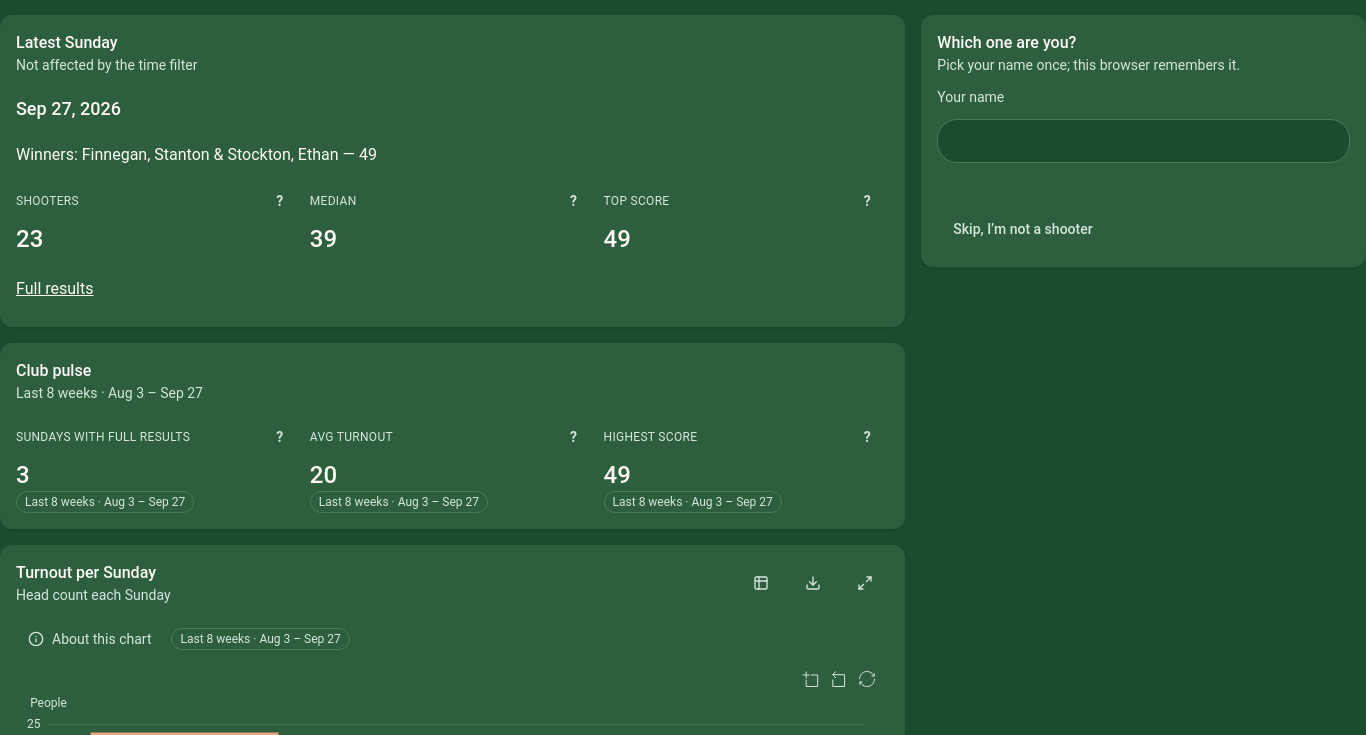
Test: HomePage › a pick fills the panel, passes the id on and moves focus to the panel
The image size is (1366, 735).
Type "Hadley" into the search field labelled "Your name".
click(1144, 141); type("Hadley")  # box x1=937 y1=119 x2=1350 y2=163
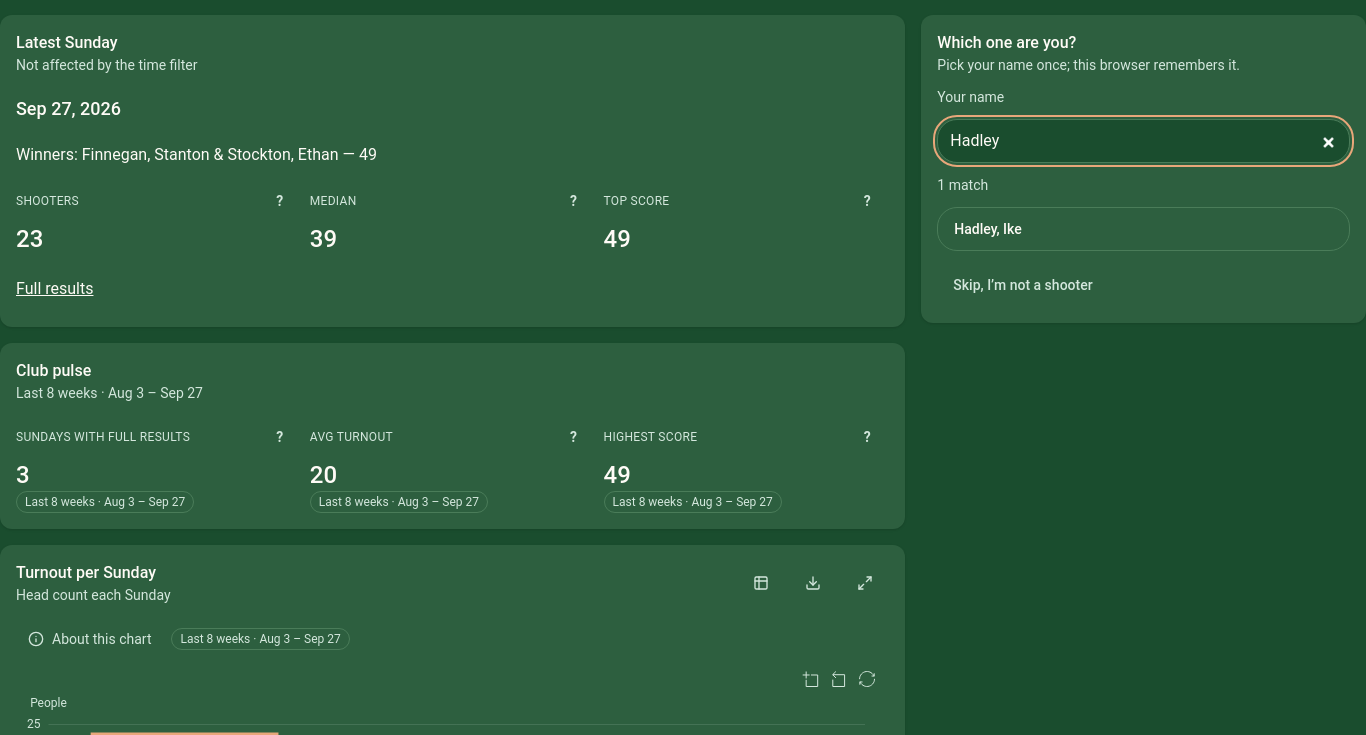
Click the button "Hadley, Ike".
click(988, 229)  # box x1=937 y1=207 x2=1350 y2=251
(page scrolled)
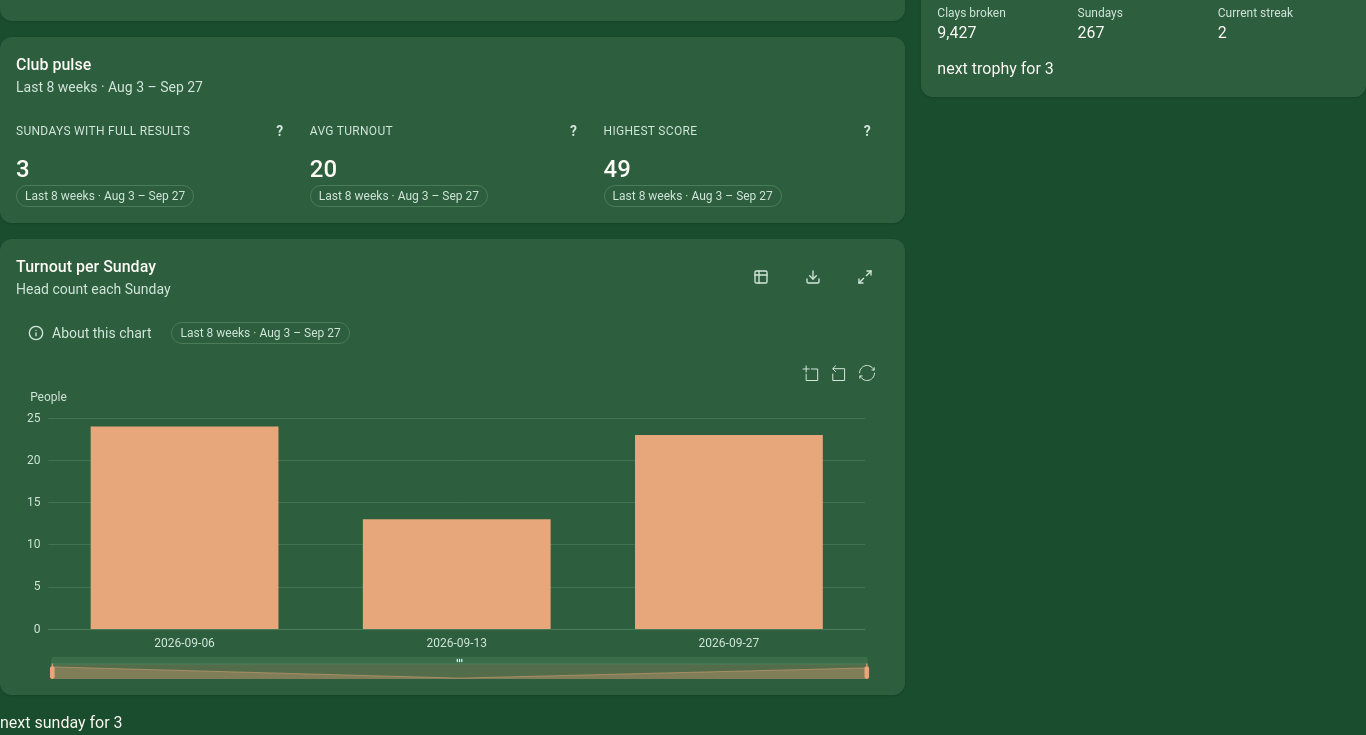
expect the text "next sunday for 3" is shown: met, box x1=0 y1=713 x2=123 y2=732
